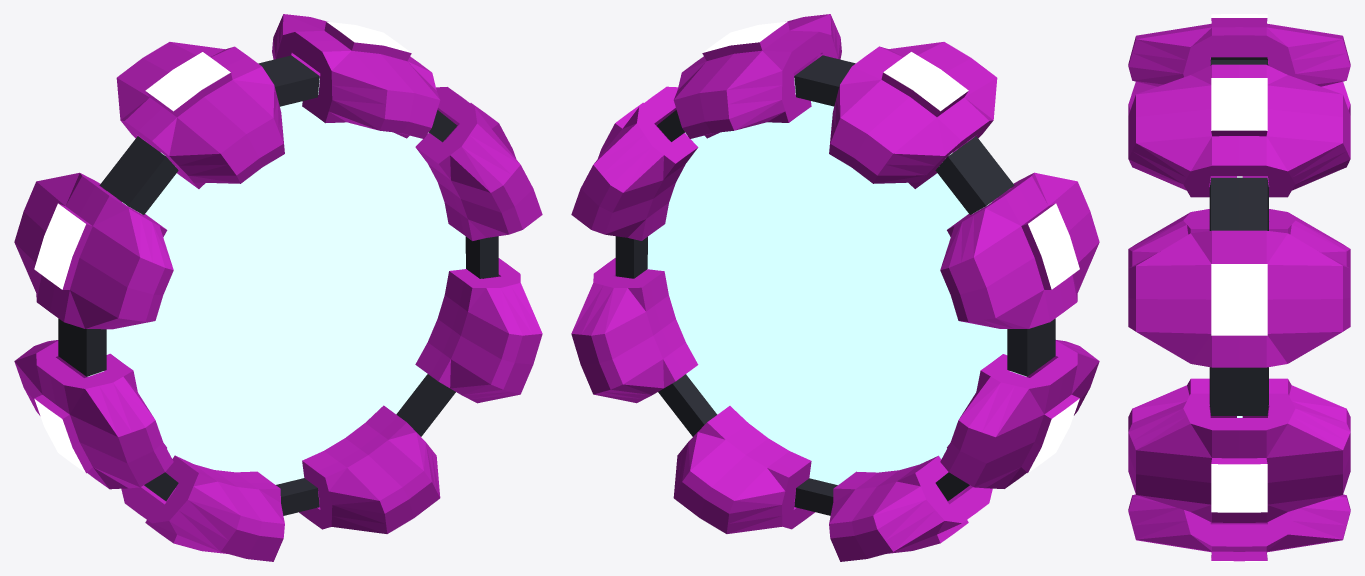
The model's file is Portal.fbx.
3 renders of one model, left to right at view 1: azimuth 30°, elevation 25°; view 2: azimuth 150°, elevation 25°; view 3: azimuth 270°, elevation 25°, orthographic.
Visible parts, largest first — view 1: Cube.001, Circle, Cube.011; view 2: Cube.001, Circle, Cube.011; view 3: Cube.001, Cube.011.
Part boxes in pixels (x1=…): Cube.001: x1=14, y1=14, x2=542, y2=561; Circle: x1=87, y1=78, x2=465, y2=484; Cube.011: x1=58, y1=55, x2=498, y2=515; Cube.001: x1=571, y1=14, x2=1099, y2=561; Circle: x1=647, y1=78, x2=1026, y2=484; Cube.011: x1=615, y1=55, x2=1055, y2=515; Cube.001: x1=1128, y1=14, x2=1350, y2=561; Cube.011: x1=1209, y1=57, x2=1268, y2=415.
Bounding box in the file's own units: 2499 × 2499 × 1047.
